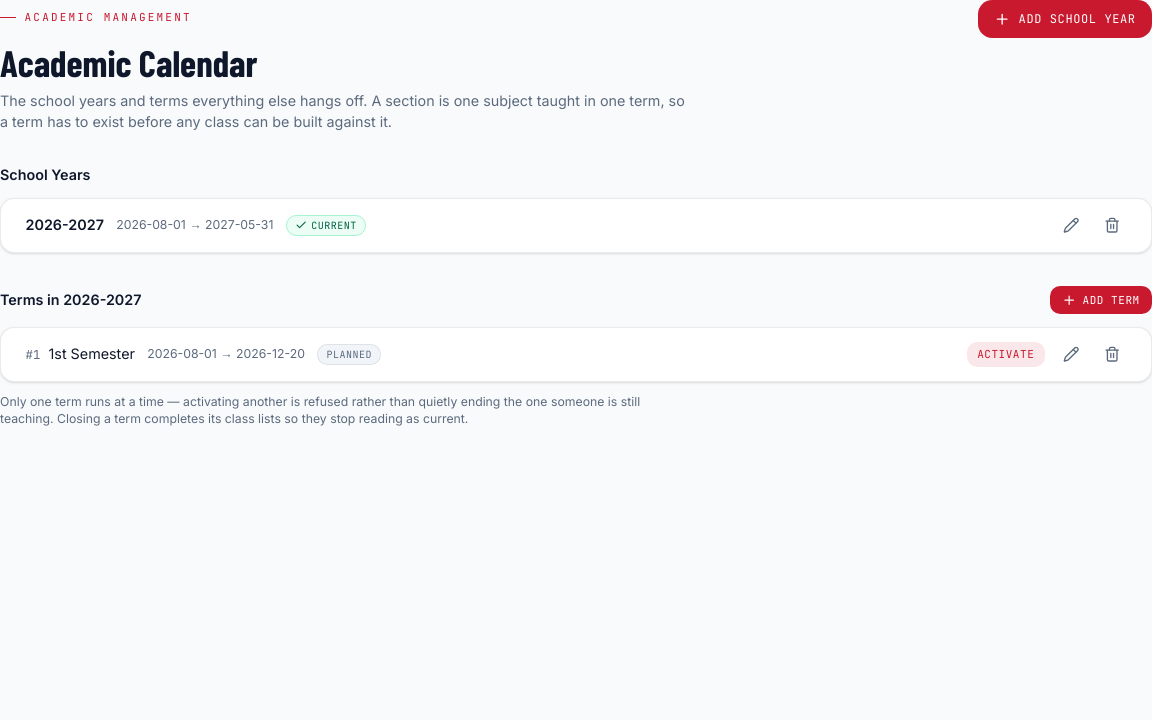
Test case: Academic Calendar — correcting and removing › offers delete on a term and warns it is refused while sections exist
The width and height of the screenshot is (1152, 720).
Click the button named "Delete 1st Semester".
click(1112, 354)  # box top-left (1098, 340), bottom-right (1126, 369)
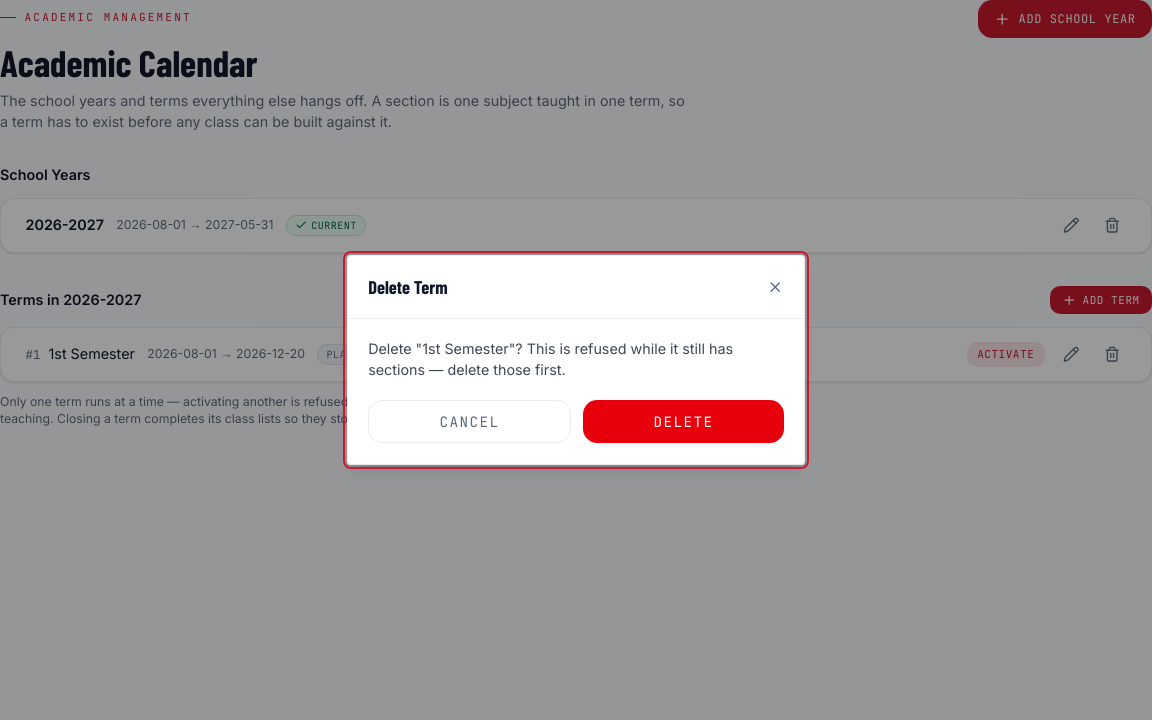
Result: the text "refused while it still has sections" is shown at top-left (368, 340), bottom-right (733, 378)
